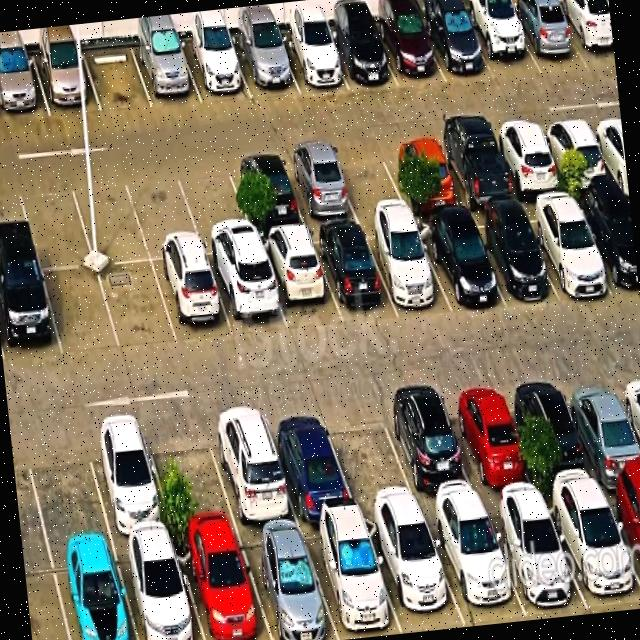empty: (320, 396, 420, 513), (142, 416, 238, 536), (21, 424, 111, 549), (174, 159, 256, 255), (68, 171, 150, 264), (125, 167, 204, 260), (16, 176, 94, 269), (98, 260, 177, 350), (42, 267, 120, 356), (329, 143, 408, 218), (82, 44, 152, 111)
occupied: (377, 388, 482, 511), (483, 499, 588, 617), (300, 518, 401, 640), (424, 505, 526, 625), (363, 514, 465, 632), (543, 489, 640, 613), (203, 403, 298, 529), (440, 381, 538, 503), (236, 526, 338, 640), (262, 403, 357, 521), (509, 374, 601, 495), (82, 419, 173, 541), (174, 532, 271, 640), (520, 198, 614, 298), (560, 370, 640, 487), (114, 537, 204, 640), (414, 216, 506, 313), (465, 210, 557, 306), (257, 231, 342, 332), (310, 225, 397, 323), (362, 221, 452, 314), (50, 544, 137, 640), (152, 256, 233, 344), (206, 251, 288, 336), (573, 193, 639, 296), (433, 130, 517, 209), (226, 153, 306, 233), (280, 148, 358, 225), (0, 267, 62, 363), (462, 7, 542, 81), (382, 137, 462, 209), (506, 4, 588, 74), (490, 123, 566, 197), (538, 117, 614, 190), (373, 14, 446, 87), (419, 11, 494, 82), (324, 22, 397, 90), (179, 38, 252, 103), (32, 48, 101, 116), (131, 40, 201, 107), (276, 30, 348, 93), (231, 34, 299, 98), (554, 0, 615, 68), (602, 482, 640, 583), (0, 54, 50, 121)
